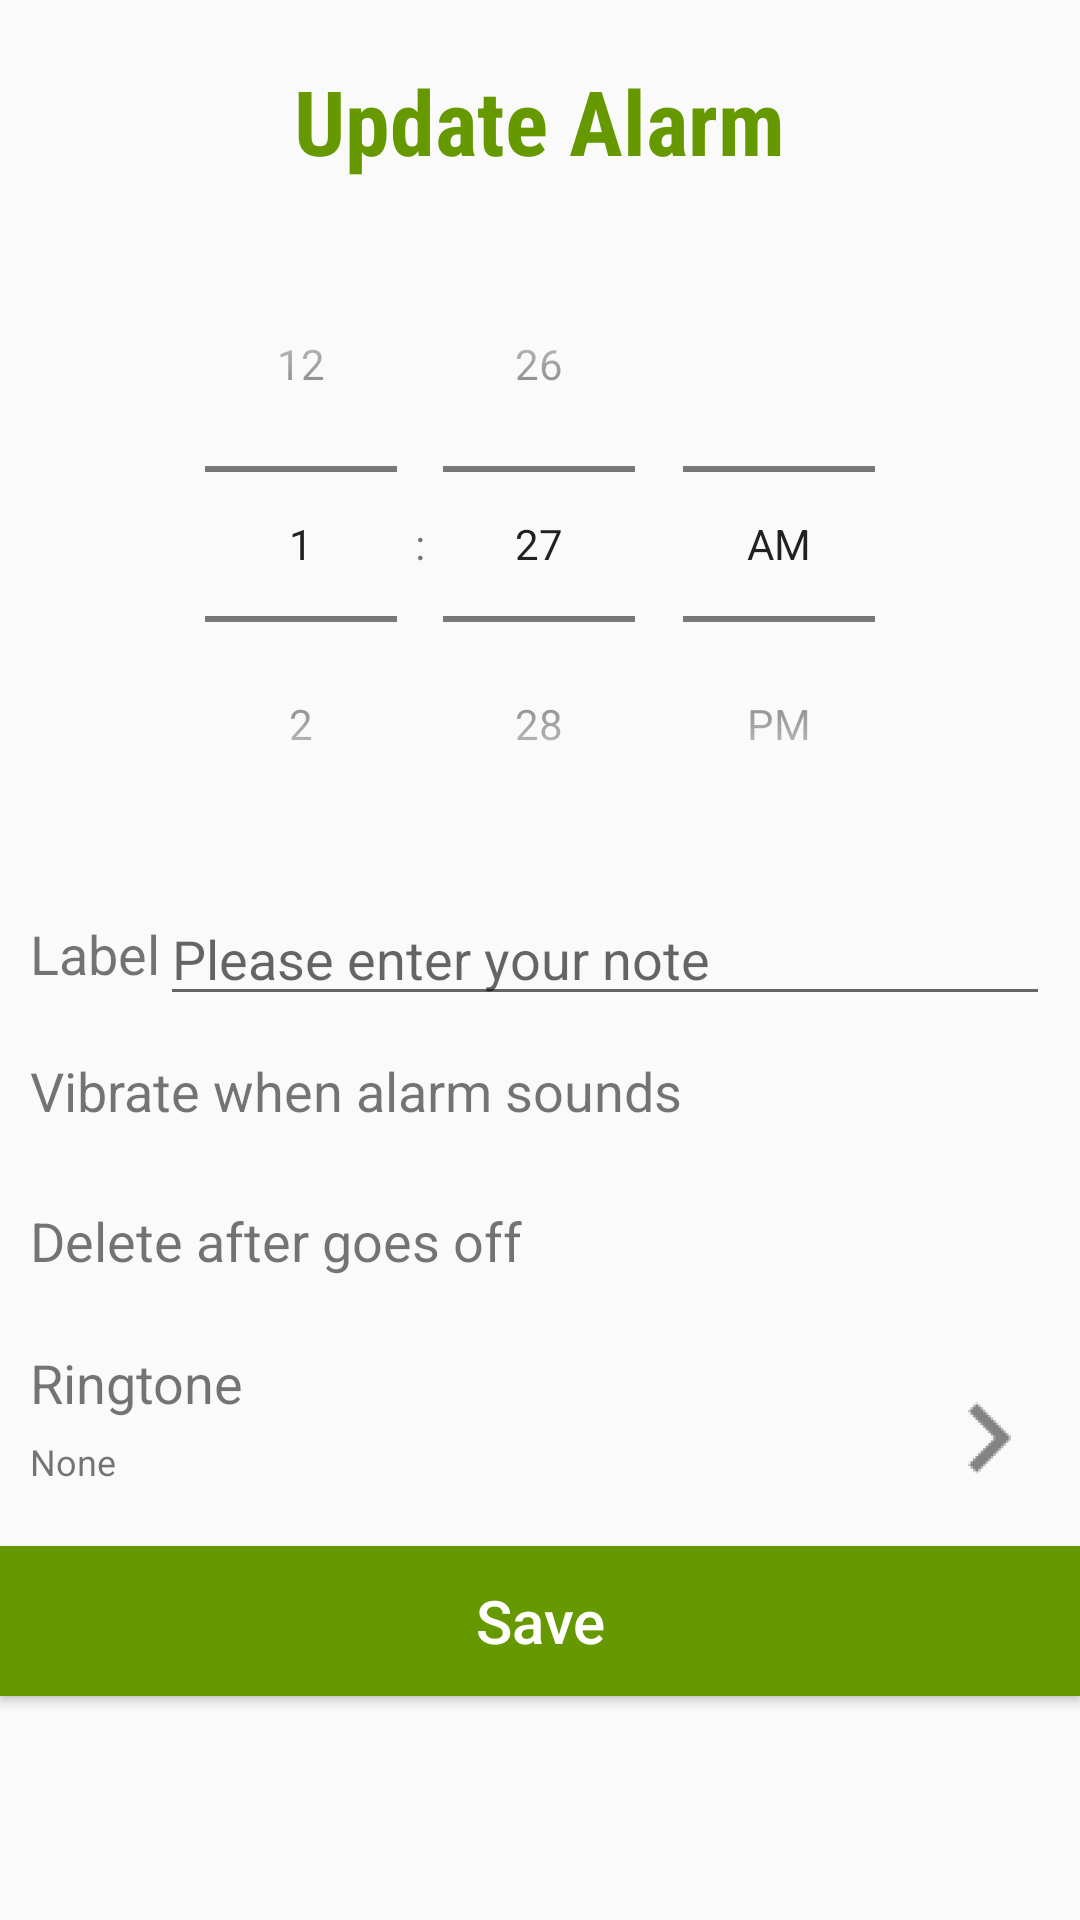

Icons on this 1080×1920 Android screen, each with the point to tap as (x,y):
navigate next: (989,1438)
